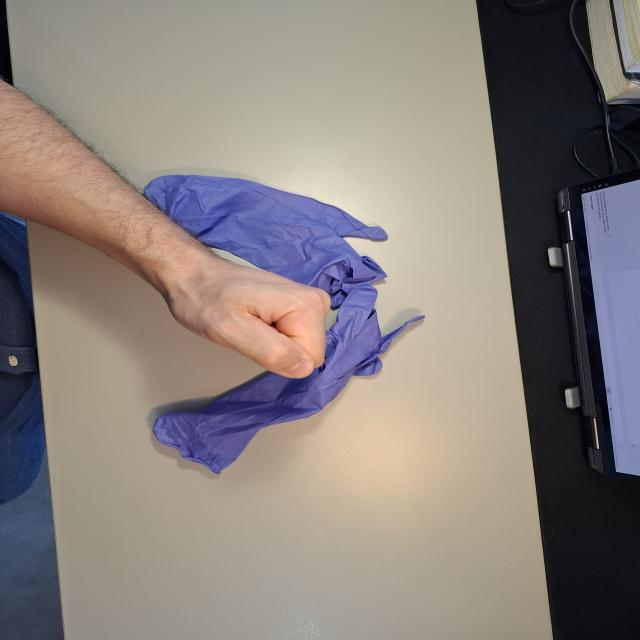glove_off: (151, 245, 335, 381)
